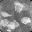people: (14, 2, 23, 13), (21, 16, 31, 25), (9, 20, 19, 29), (1, 19, 11, 27), (1, 11, 10, 18)
